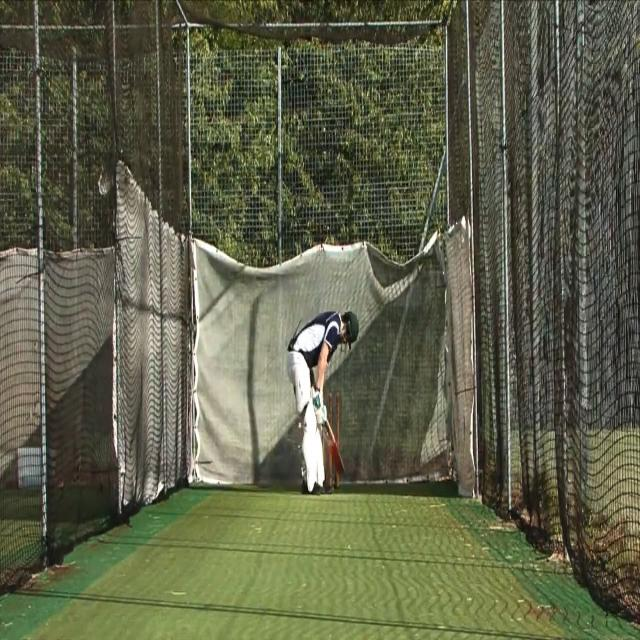batsman: (285, 306, 360, 498)
